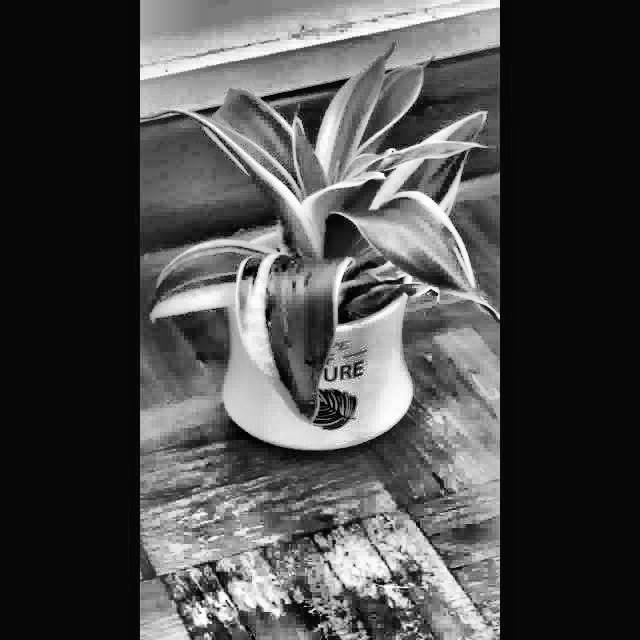plants: (140, 39, 500, 464)
